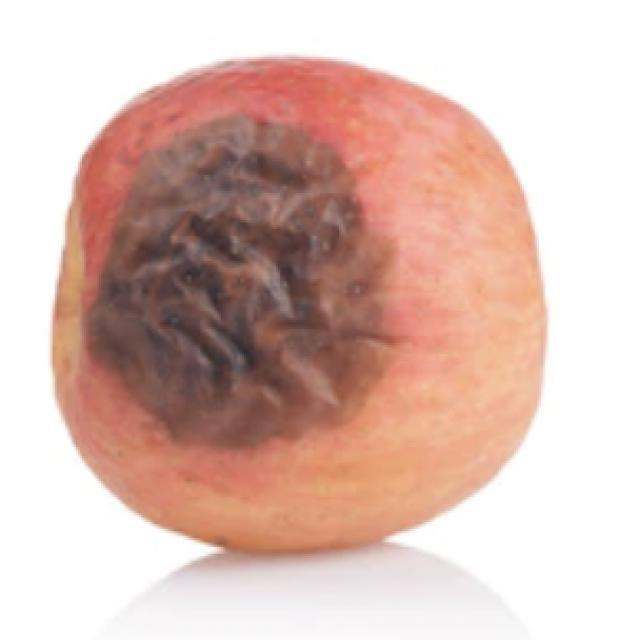Rotten: (50, 60, 547, 573)
